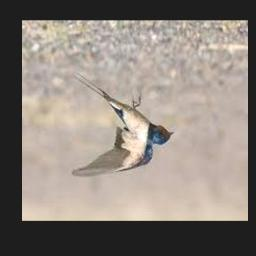Swallow: (72, 74, 174, 178)
